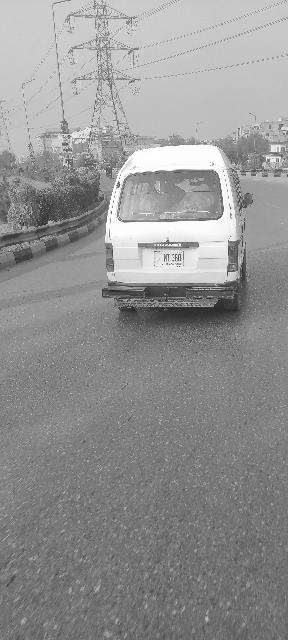Number: (162, 254, 182, 262)
